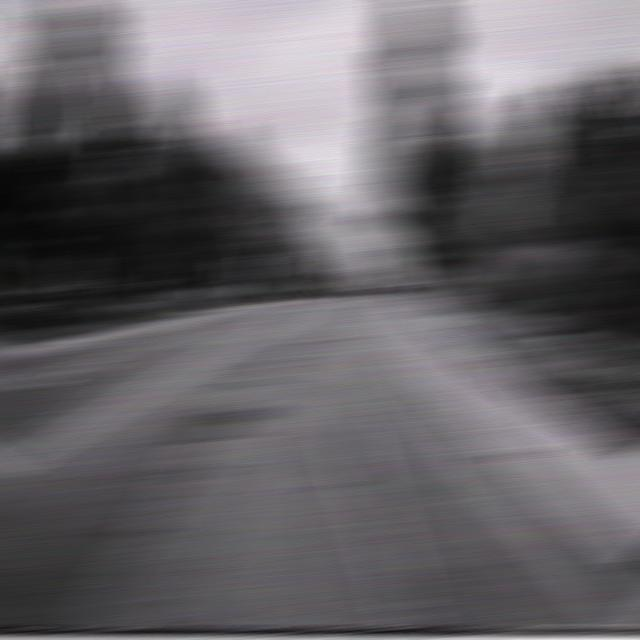speedLimit35: (483, 138, 536, 200)
